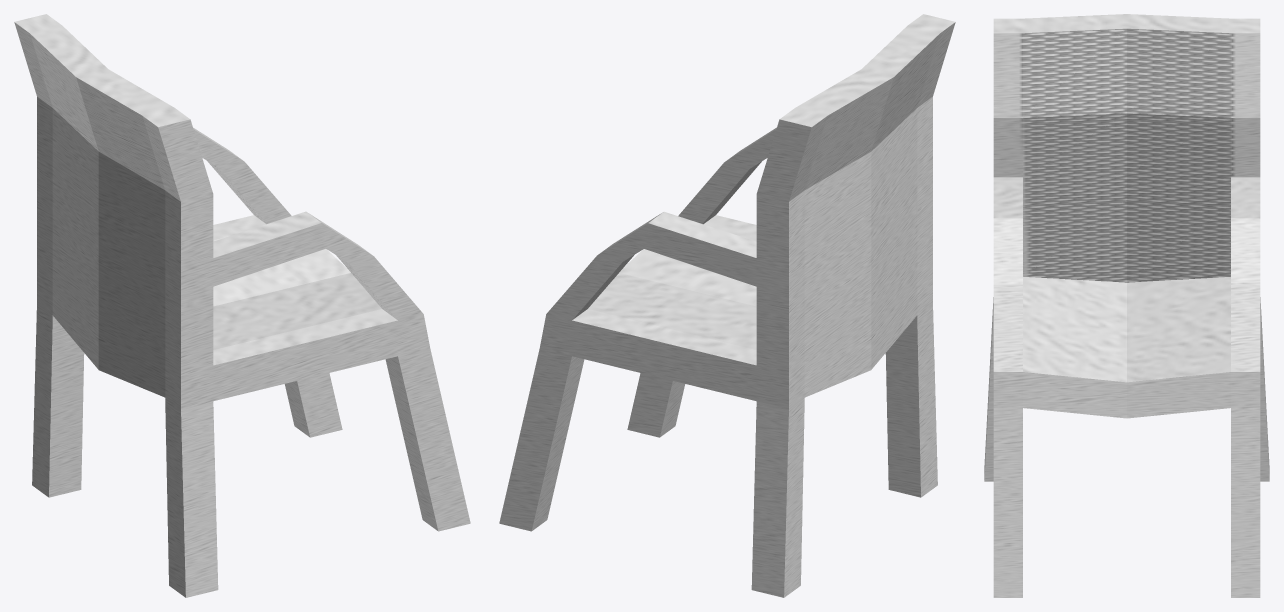
The model's file is chair1.fbx.
3 renders of one model, left to right at view 1: azimuth 30°, elevation 25°; view 2: azimuth 150°, elevation 25°; view 3: azimuth 270°, elevation 25°, orthographic. The views are drawn at different scales.
Visible parts, largest first — view 1: Cube; view 2: Cube; view 3: Cube.
Part boxes in pixels (x1,y1,x2,y2): Cube: (14, 14, 470, 597); Cube: (499, 14, 955, 597); Cube: (984, 14, 1269, 597).
Bounding box in the file's own units: 259 × 362 × 214.
